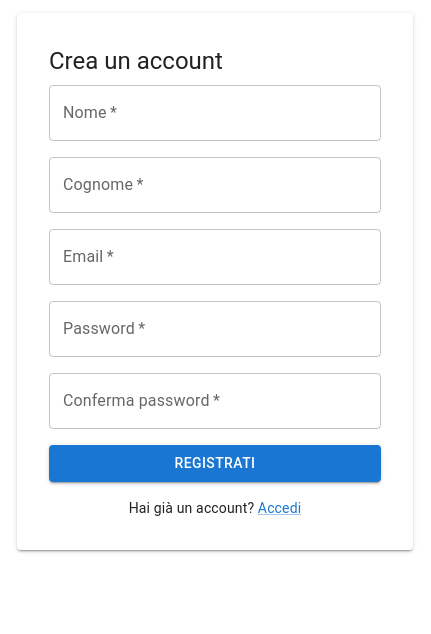
it: Registrazione › se le password non coincidono mostra l'errore e non chiama il backend
Type "Mario" into the field labelled "Nome *".
click(215, 113); type("Mario")  # box left=49, top=85, right=381, bottom=141
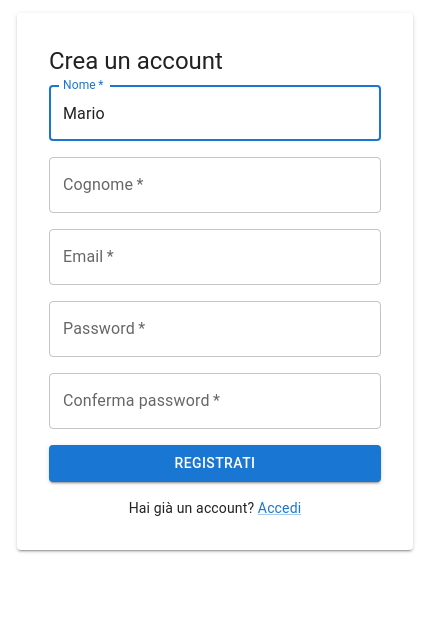
Type "Rossi" into the field labelled "Cognome *".
click(215, 185); type("Rossi")  # box left=49, top=157, right=381, bottom=213
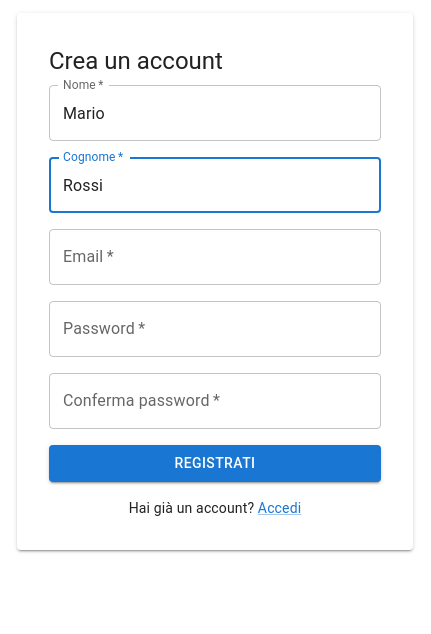
Type "mario@example.com" into the field labelled "Email *".
click(215, 257); type("mario@example.com")  # box left=49, top=229, right=381, bottom=285
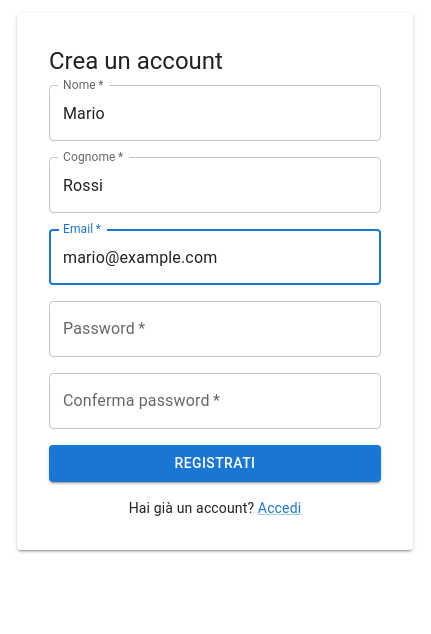
Type "secret1" into the password field labelled "Password *".
click(215, 329); type("secret1")  # box left=49, top=301, right=381, bottom=357
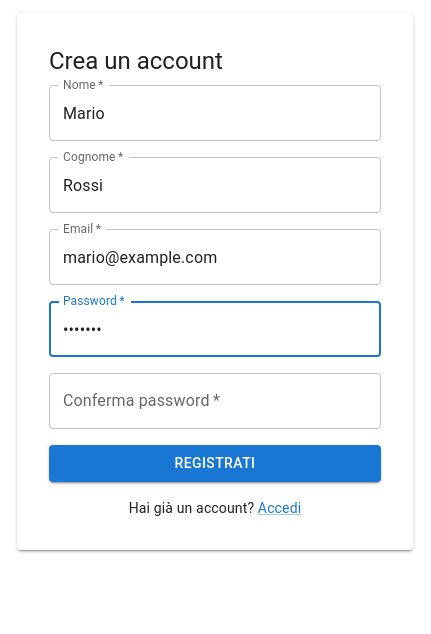
Type "secret2" into the password field labelled "Conferma password *".
click(215, 401); type("secret2")  # box left=49, top=373, right=381, bottom=429
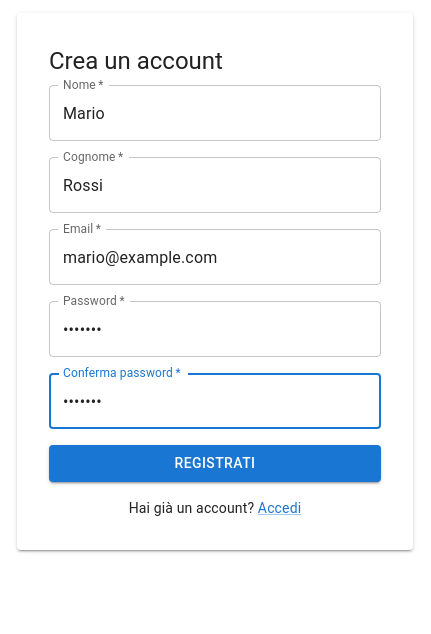
Click the button "Registrati".
click(215, 464)  # box left=49, top=445, right=381, bottom=482
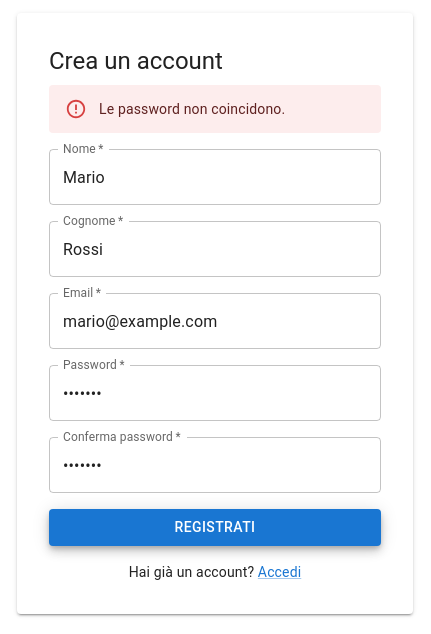
expect the message reads "Le password non coincidono.": met, box left=99, top=101, right=285, bottom=117
